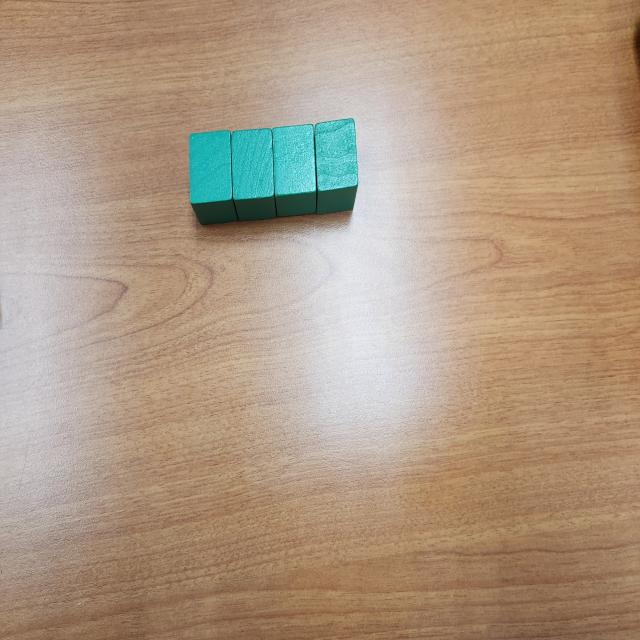green: (188, 128, 239, 227), (230, 126, 276, 222), (271, 123, 317, 217), (314, 118, 358, 216)
